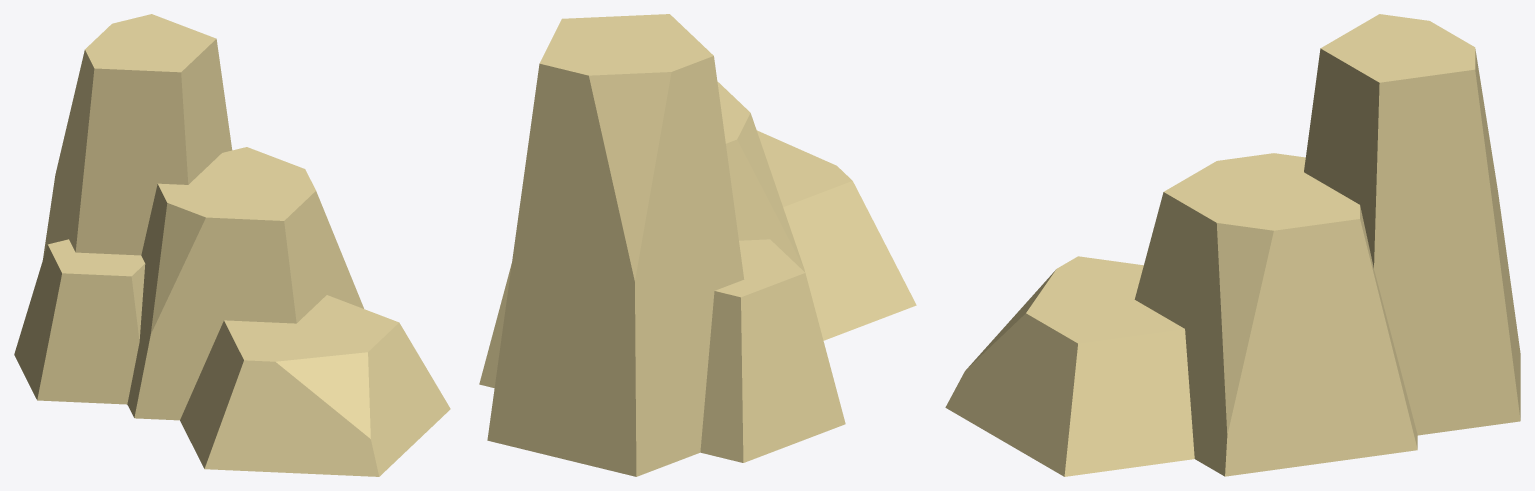
Rendered from rockC10.glb.
3 renders of one model, left to right at view 1: azimuth 30°, elevation 25°; view 2: azimuth 150°, elevation 25°; view 3: azimuth 270°, elevation 25°, orthographic. The views are drawn at different scales.
Parts seen in each view (by area): view 1: rockC2.001; view 2: rockC2.001; view 3: rockC2.001.
Part boxes in pixels (<box>): rockC2.001: <box>14,14,450,476</box>; rockC2.001: <box>479,14,916,476</box>; rockC2.001: <box>945,14,1520,476</box>.
Size of the model in its own units: 2.19 by 2.04 by 3.13.
